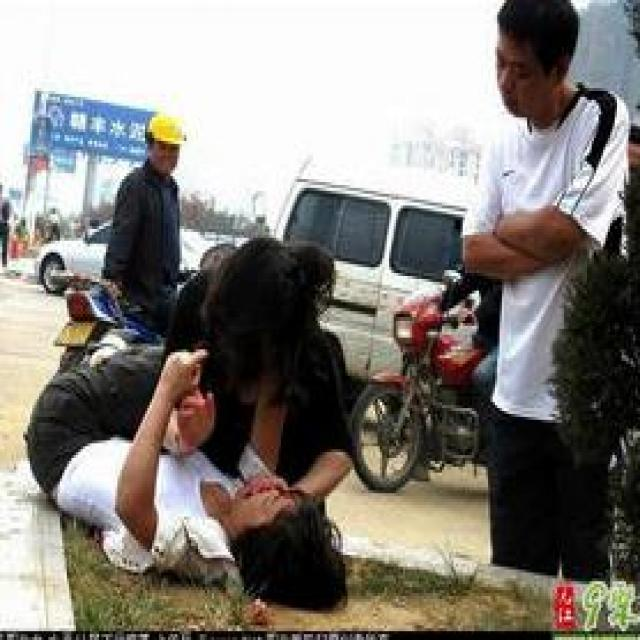fall: (20, 355, 318, 587)
